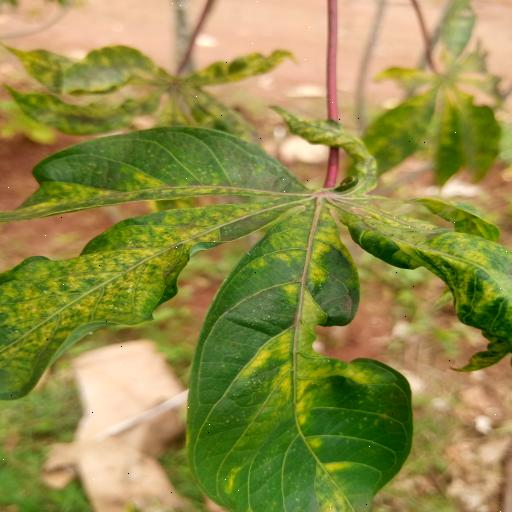Cassava_Mosaic: (0, 112, 512, 506)
